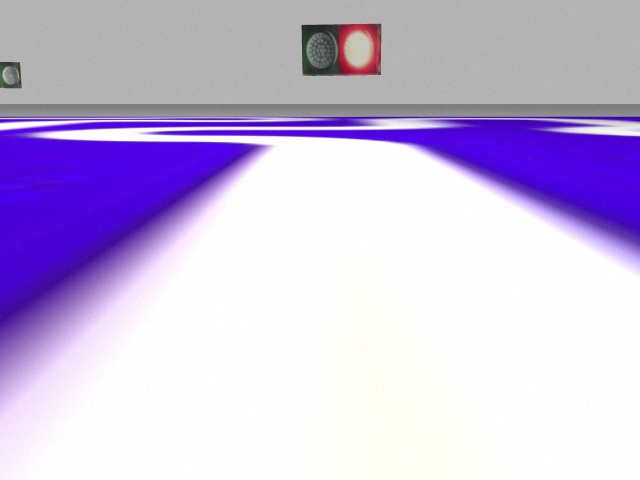red: (339, 24, 383, 72)
